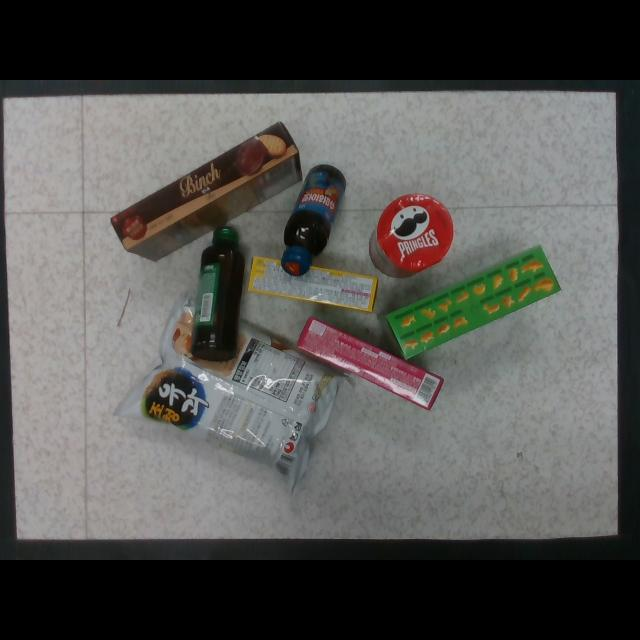bongji: (112, 291, 356, 494)
box: (111, 122, 302, 260), (377, 248, 561, 358), (298, 318, 444, 410), (248, 256, 378, 312)
canSnack: (370, 193, 454, 278)
energdrink: (192, 228, 245, 362), (283, 165, 345, 274)
